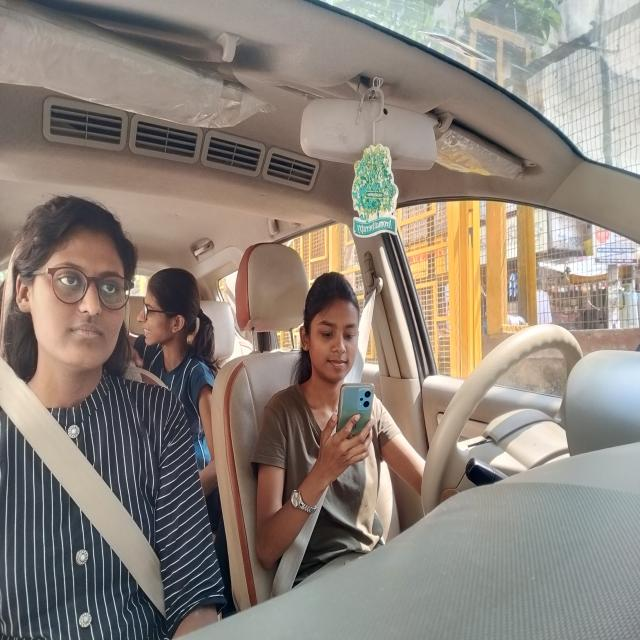mobile: (335, 380, 375, 461)
person: (10, 196, 136, 374), (294, 273, 363, 390), (137, 264, 204, 355)
